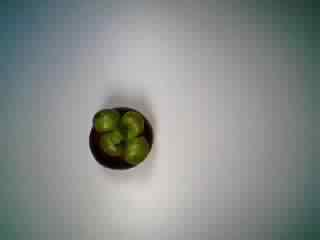mangosteen: (80, 101, 158, 177)
